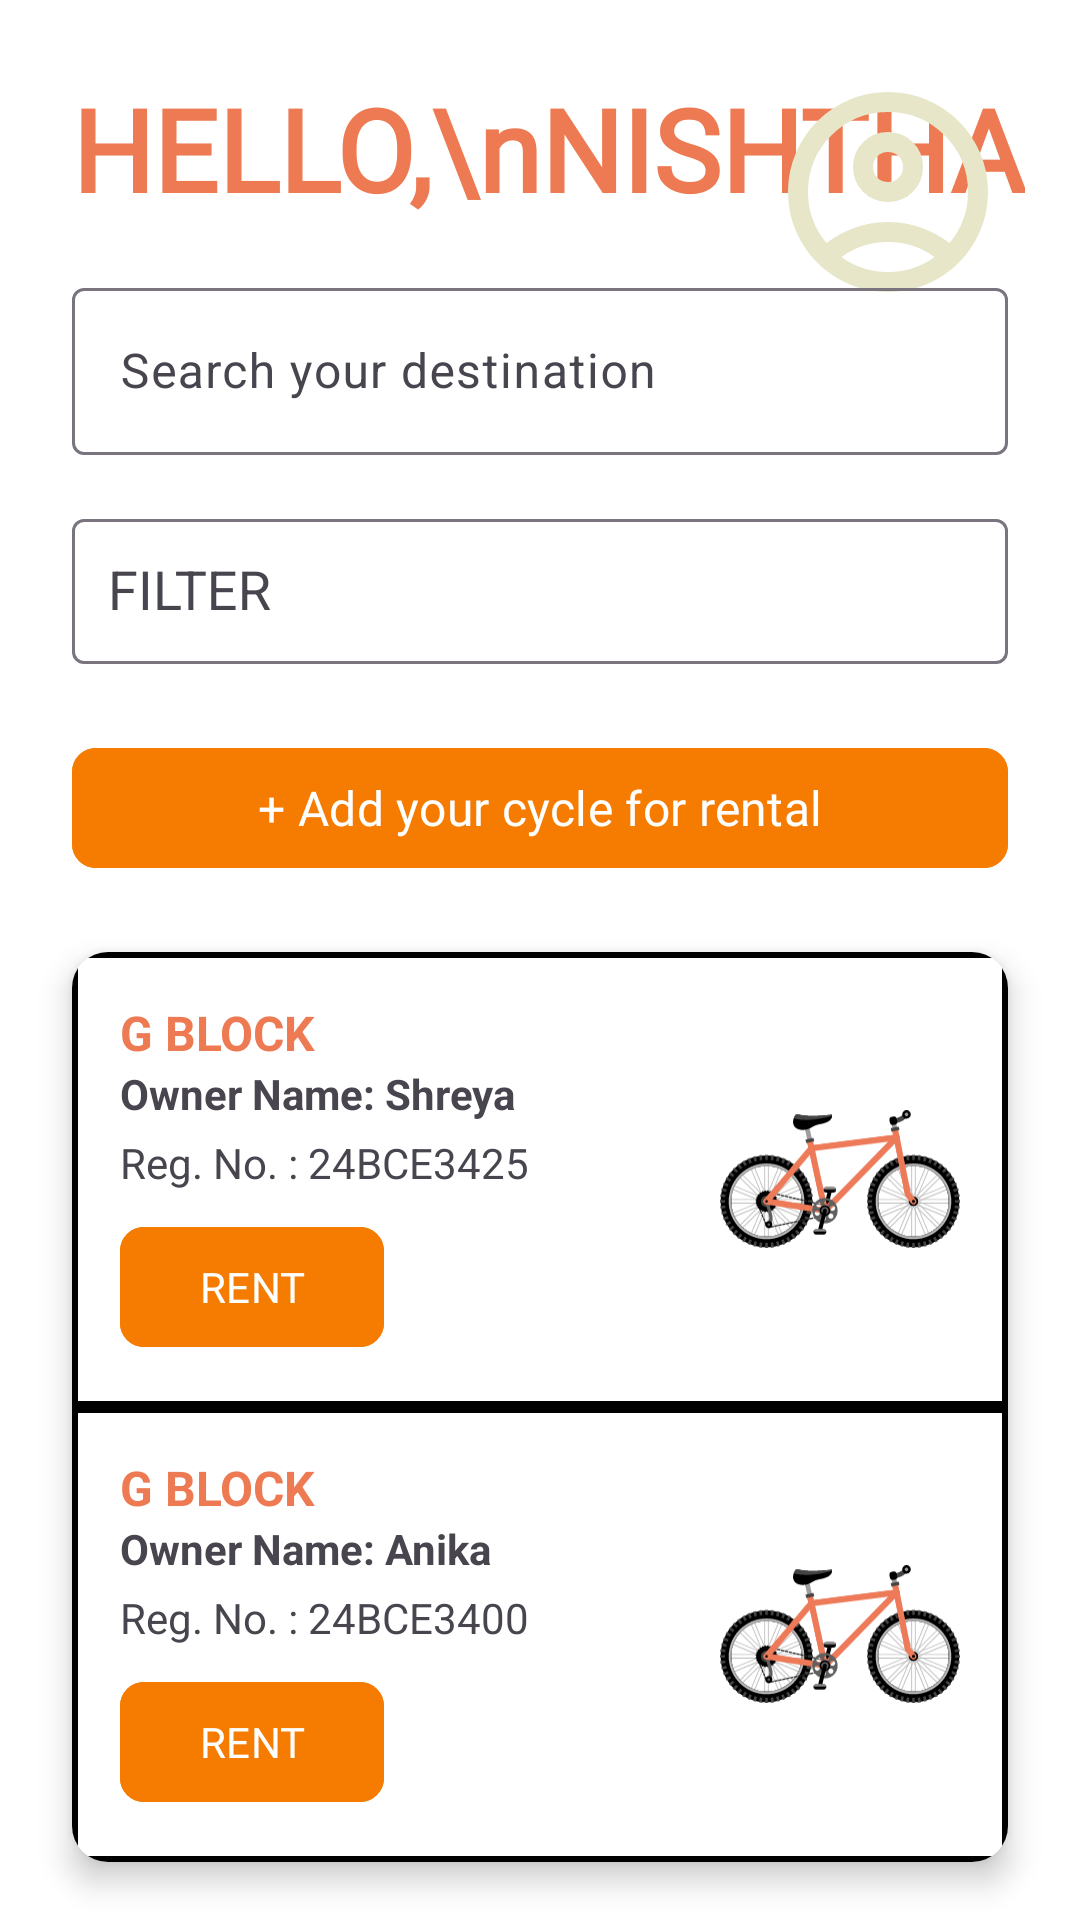

Point at icon controls on the screen. Image size 1080w x 1920h, points as (x=x, y=y).
account: (x=888, y=202)
Cycle Image: (x=840, y=1179), (x=840, y=1634)
